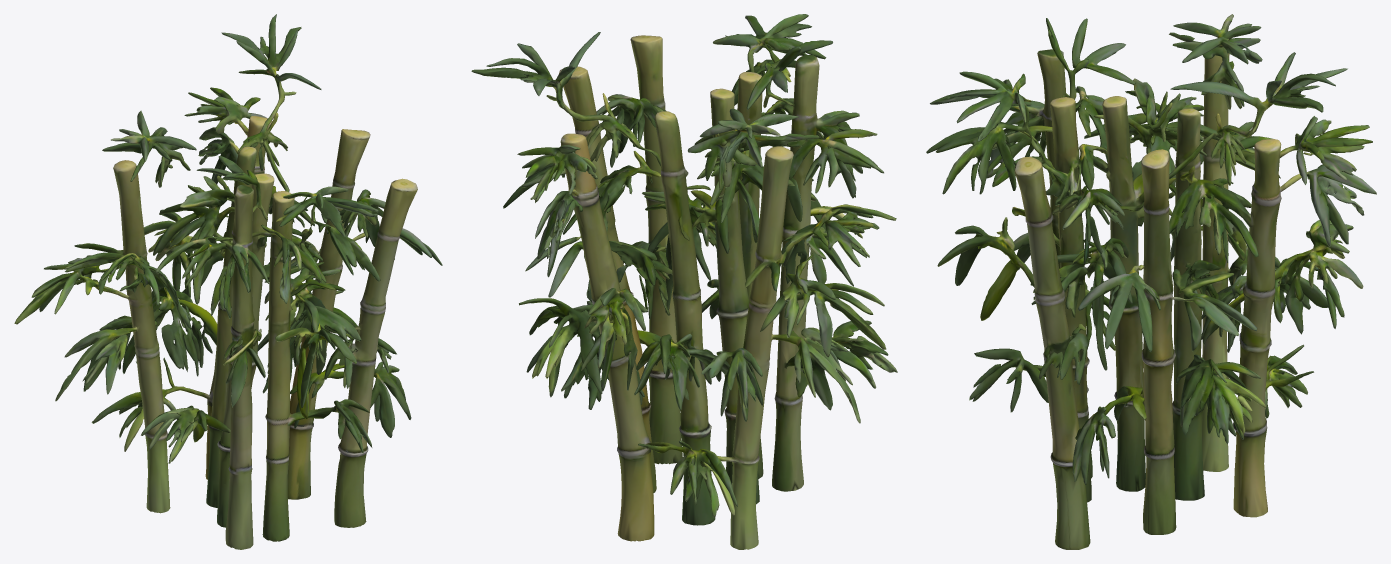
The model's file is nature-bamboo.glb.
The picture shows the model from 3 angles, left to right: view 1: azimuth 30°, elevation 25°; view 2: azimuth 150°, elevation 25°; view 3: azimuth 270°, elevation 25°; orthographic projection. The views are drawn at different scales.
Parts seen in each view (by area): view 1: tripo_node_06151530-b22c-44c4-be7d-88954922b522; view 2: tripo_node_06151530-b22c-44c4-be7d-88954922b522; view 3: tripo_node_06151530-b22c-44c4-be7d-88954922b522.
Part boxes in pixels (x1,y1,x2,y2): tripo_node_06151530-b22c-44c4-be7d-88954922b522: [14, 14, 442, 549]; tripo_node_06151530-b22c-44c4-be7d-88954922b522: [471, 14, 897, 549]; tripo_node_06151530-b22c-44c4-be7d-88954922b522: [926, 14, 1376, 549].
Bounding box in the file's own units: 5.59 × 6 × 5.07.
1 material, 1 textured.
